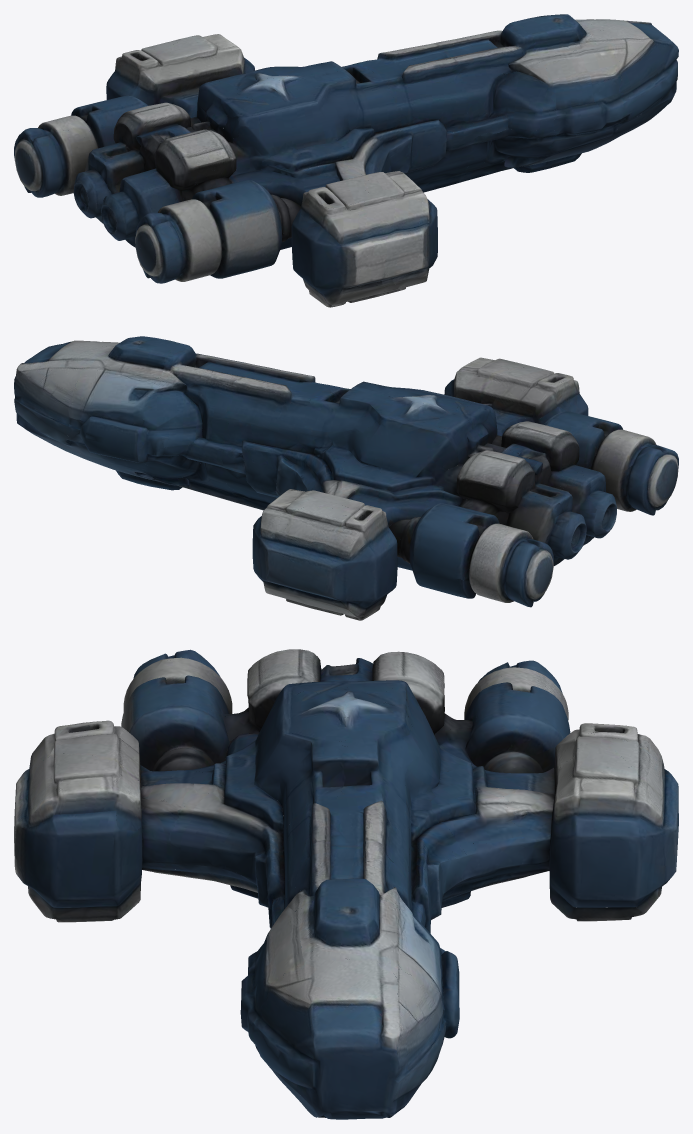
Rendered from orion_m7.glb.
3 renders of one model, top to bottom at view 1: azimuth 30°, elevation 25°; view 2: azimuth 150°, elevation 25°; view 3: azimuth 270°, elevation 25°, orthographic. The views are drawn at different scales.
Parts seen in each view (by area): view 1: tripo_node_f086c2cf-f4b0-46df-90ca-ad2f3b3f213a; view 2: tripo_node_f086c2cf-f4b0-46df-90ca-ad2f3b3f213a; view 3: tripo_node_f086c2cf-f4b0-46df-90ca-ad2f3b3f213a.
Boxes of the visible parts, x1,y1,x2,y2 form: tripo_node_f086c2cf-f4b0-46df-90ca-ad2f3b3f213a: [14, 14, 678, 307]; tripo_node_f086c2cf-f4b0-46df-90ca-ad2f3b3f213a: [14, 336, 678, 620]; tripo_node_f086c2cf-f4b0-46df-90ca-ad2f3b3f213a: [14, 649, 678, 1119].
Bounding box in the file's own units: 2 × 0.529 × 1.42.
1 material, 1 textured.
